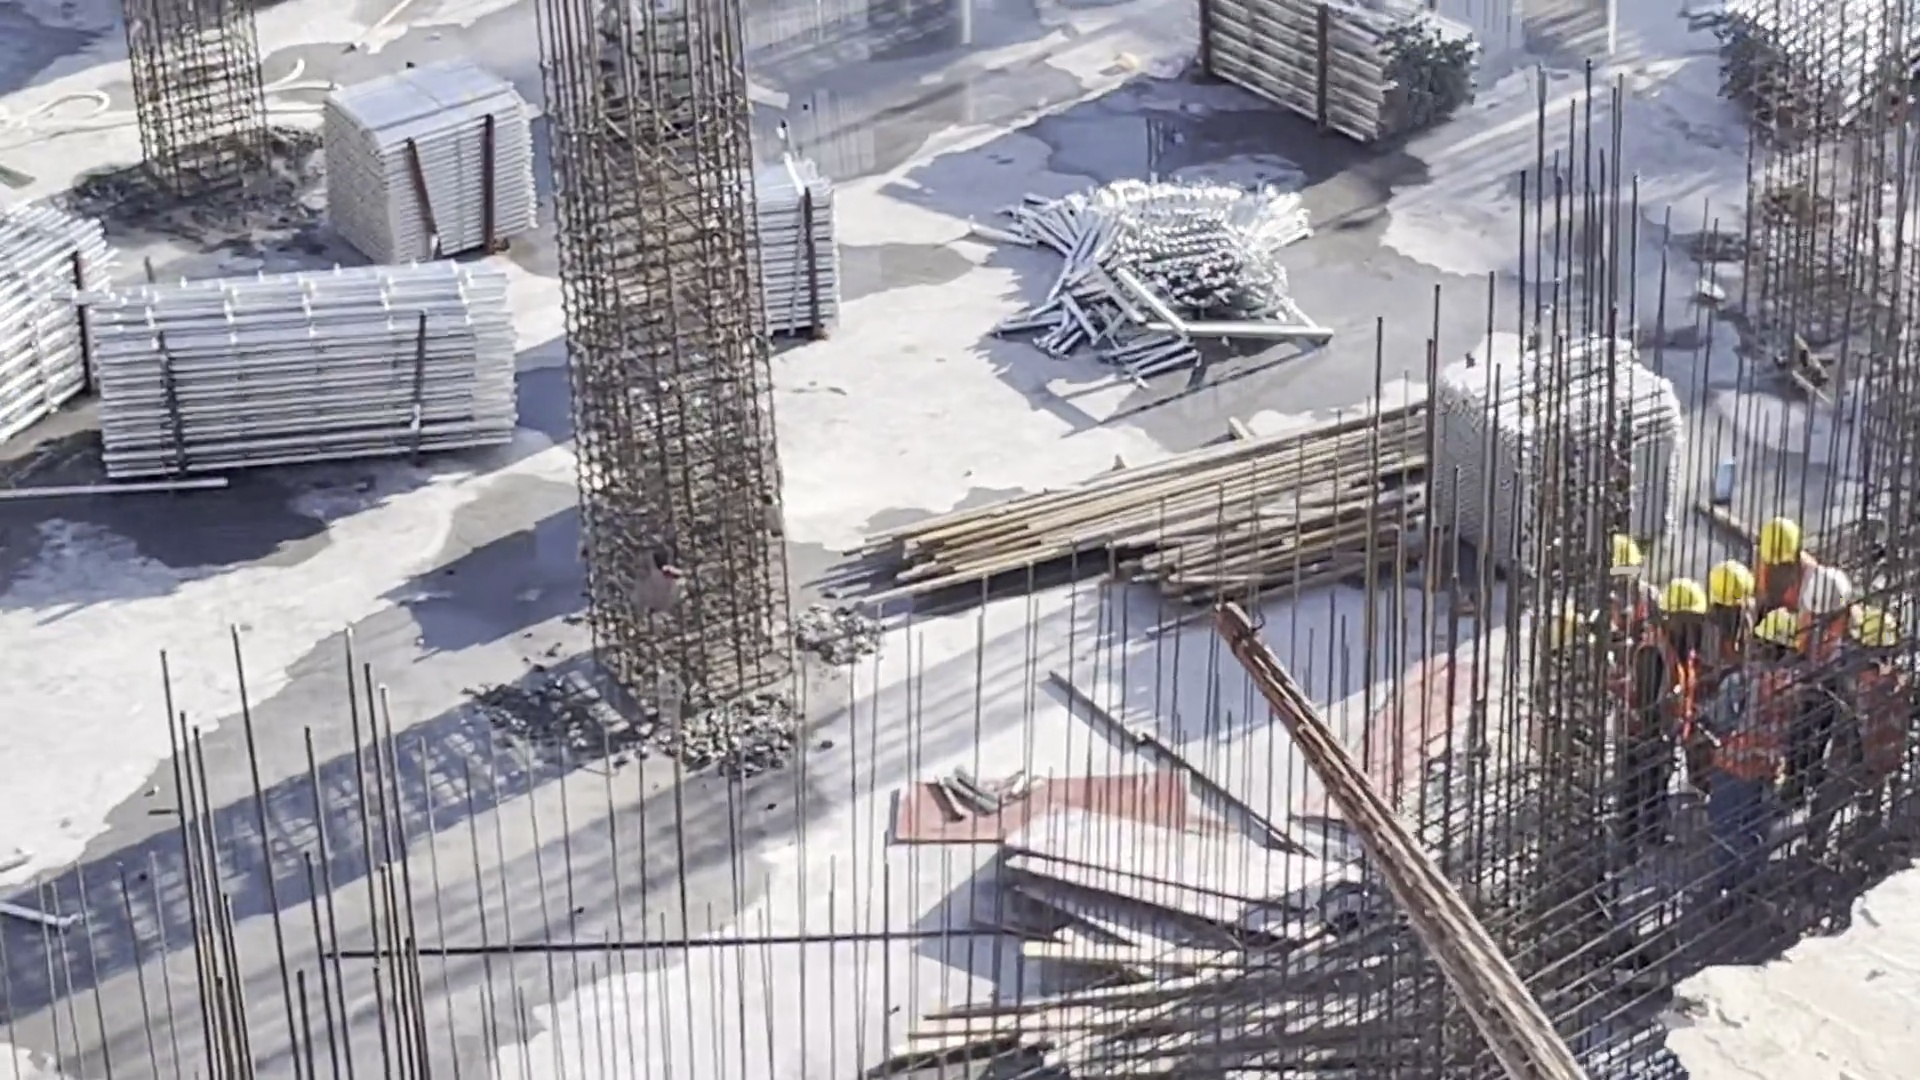board: (1040, 818, 1338, 953)
helmet: (1704, 564, 1760, 615), (1809, 569, 1855, 622), (1748, 524, 1802, 569), (1752, 615, 1806, 655), (1850, 609, 1898, 655), (1594, 540, 1641, 575), (1662, 582, 1703, 614)
person: (1709, 605, 1811, 864), (1619, 576, 1706, 864), (1817, 602, 1907, 844), (1691, 546, 1755, 697), (1585, 529, 1656, 656), (1743, 514, 1813, 620), (1791, 559, 1852, 659)
scaffold: (101, 276, 514, 456), (1035, 183, 1325, 372), (1459, 372, 1711, 575), (1221, 1, 1469, 135), (339, 83, 515, 251), (1714, 1, 1920, 133), (693, 167, 836, 319), (1, 208, 109, 395)
vest: (1719, 671, 1805, 790), (1640, 648, 1723, 768), (1753, 572, 1808, 613)
wood: (1017, 961, 1449, 1080)
